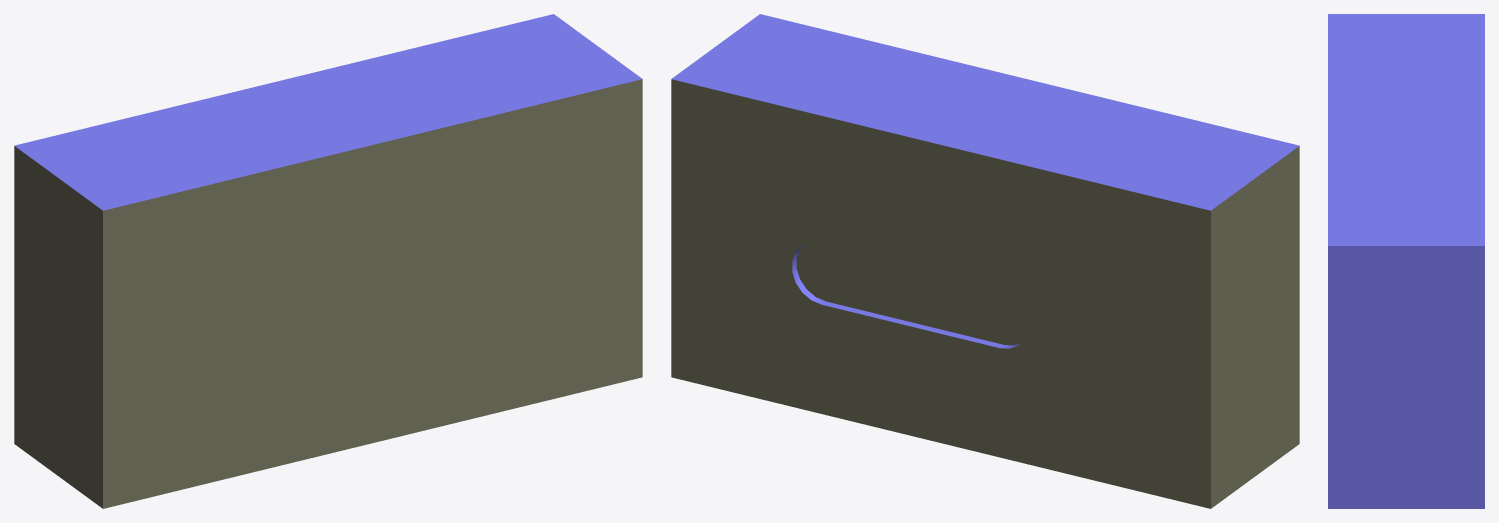
Rendered from caja de guantes.fbx.
The picture shows the model from 3 angles, left to right: view 1: azimuth 30°, elevation 25°; view 2: azimuth 150°, elevation 25°; view 3: azimuth 270°, elevation 25°; orthographic projection. The views are drawn at different scales.
Visible parts, largest first — view 1: Cut-Extrude2; view 2: Cut-Extrude2; view 3: Cut-Extrude2.
Boxes of the visible parts, left/top/right/bottom form: Cut-Extrude2: left=14, top=14, right=642, bottom=508; Cut-Extrude2: left=671, top=14, right=1299, bottom=508; Cut-Extrude2: left=1328, top=14, right=1484, bottom=508.
Bounding box in the file's own units: 5.52 × 2.91 × 1.57.
